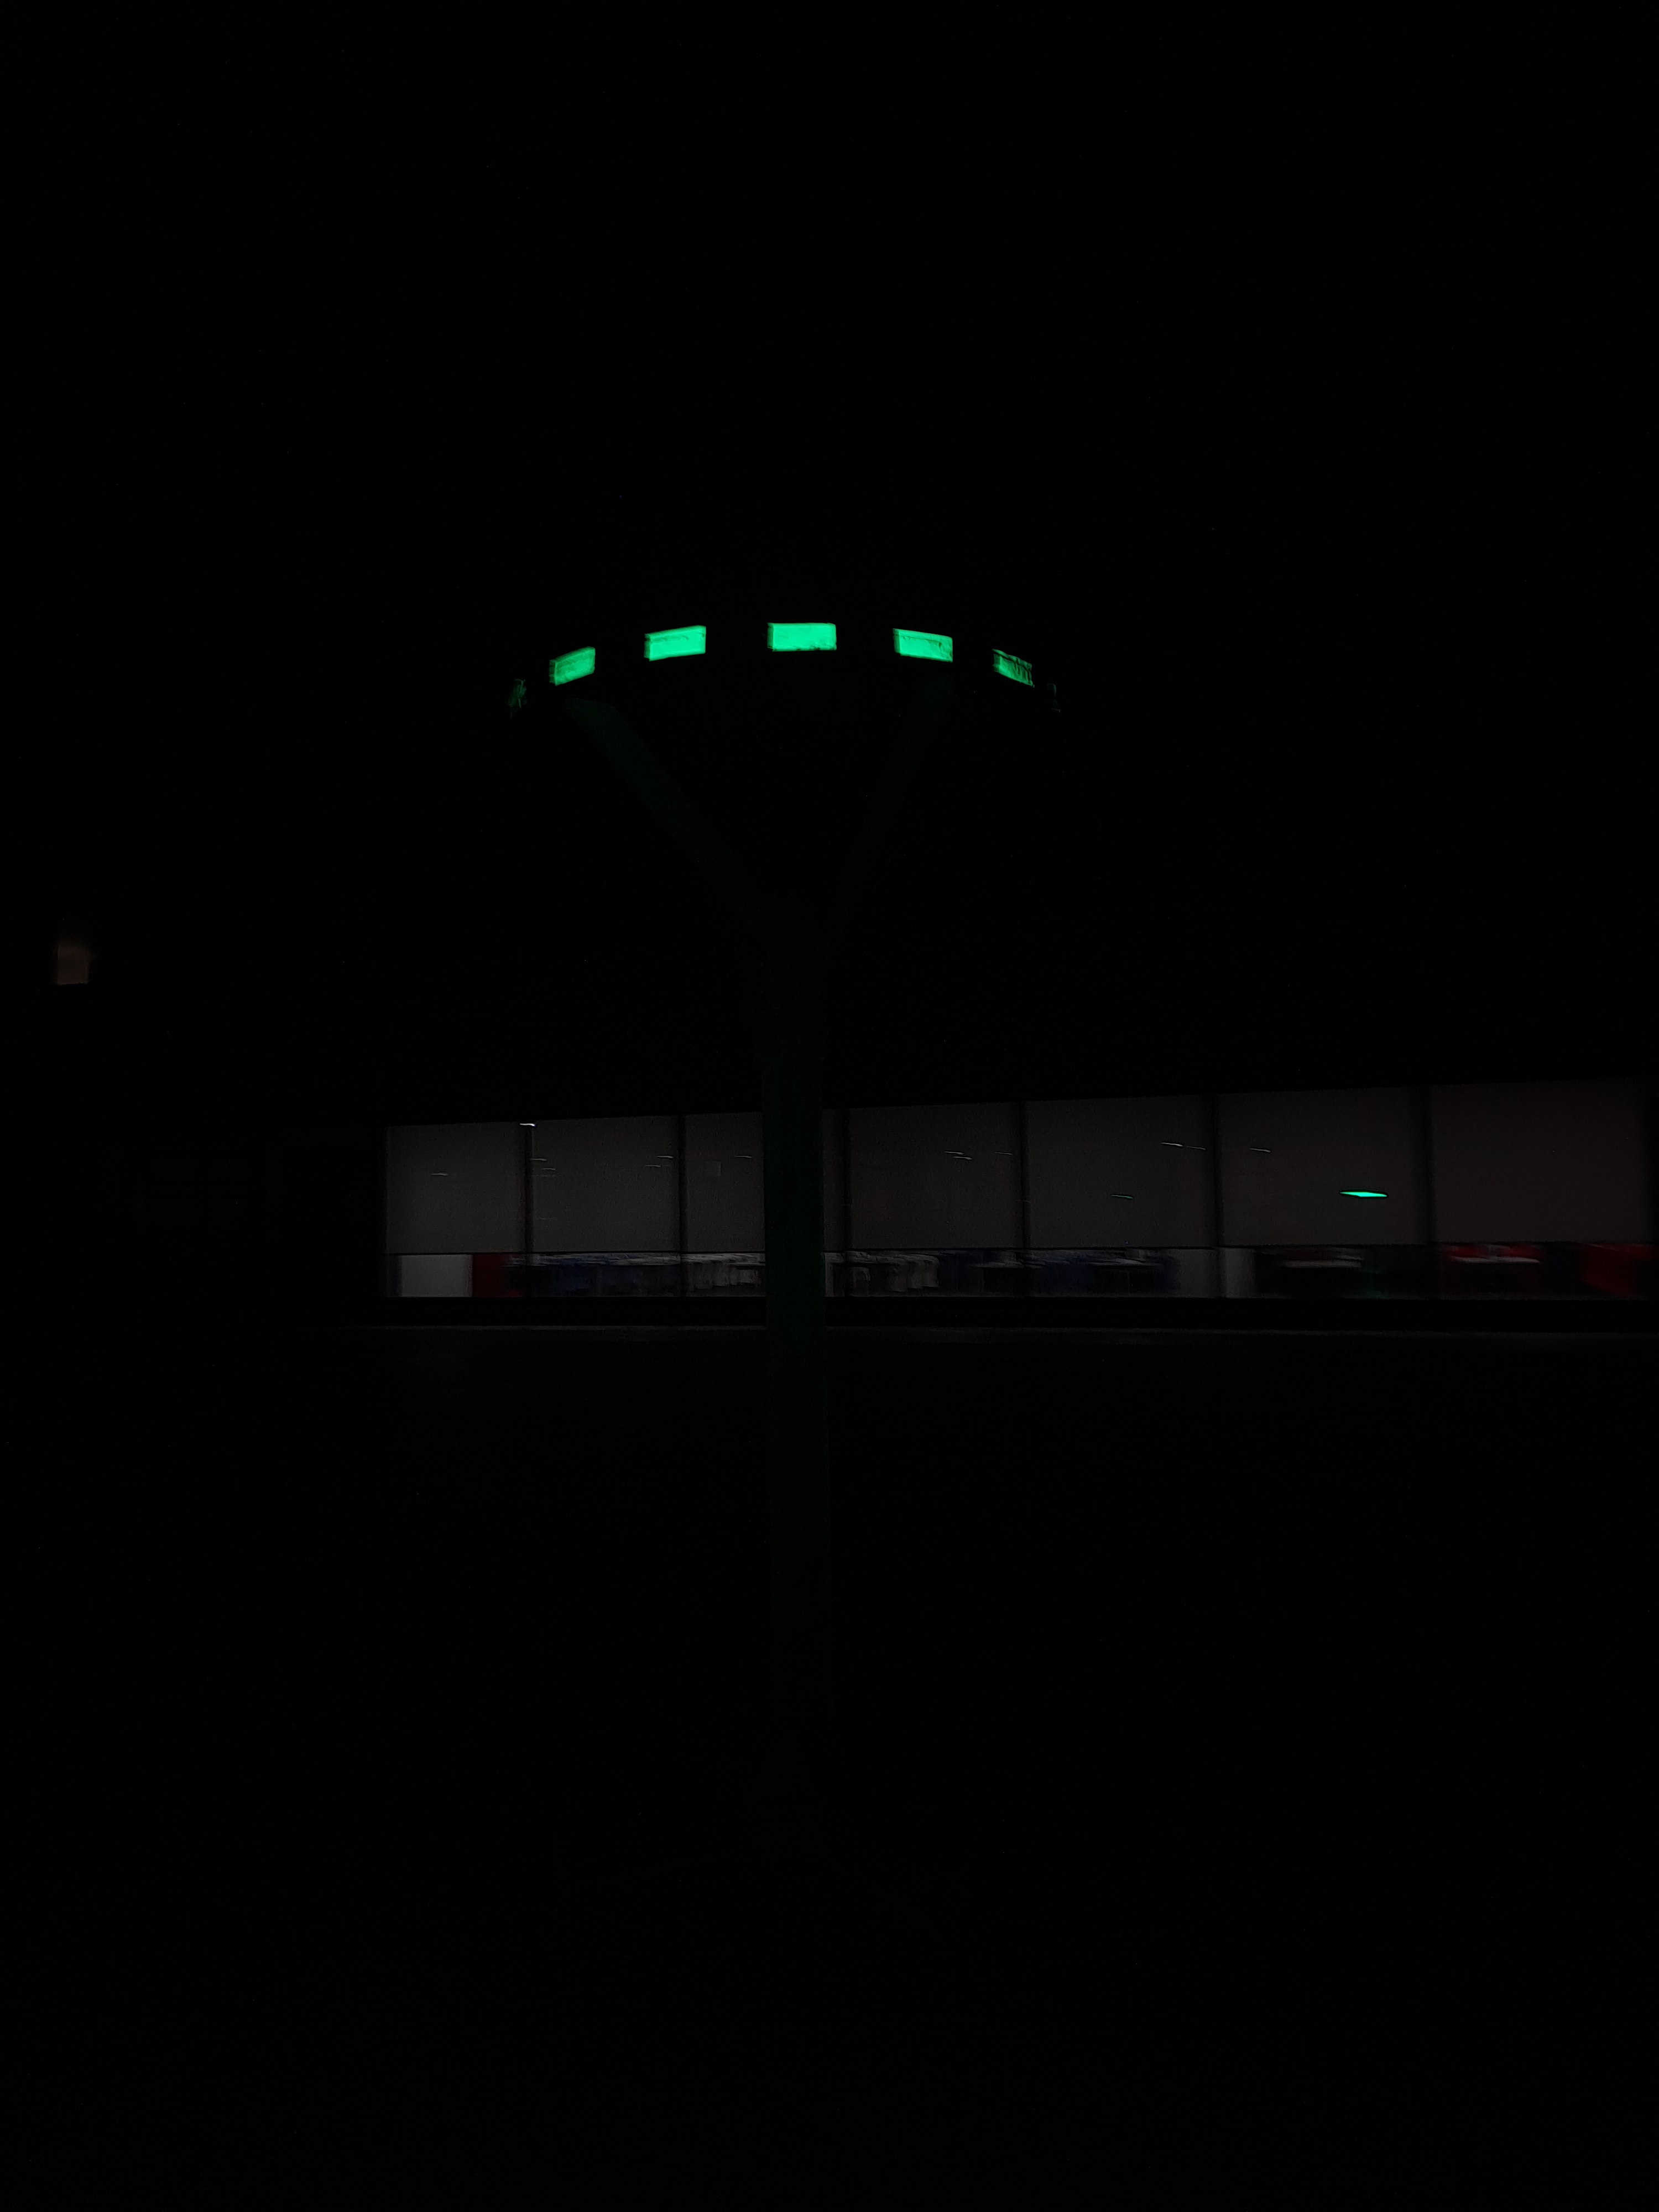hoop: (545, 624, 1039, 693)
